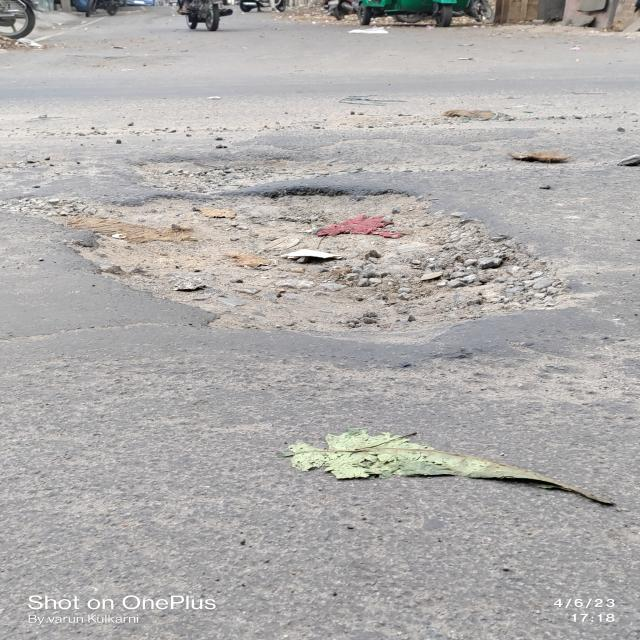potholes: (15, 147, 599, 347)
